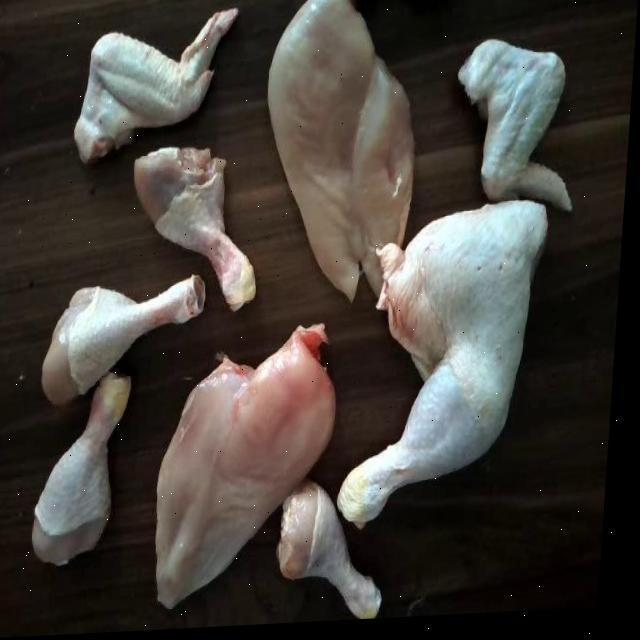breast: (154, 324, 352, 618), (248, 0, 426, 296)
leg: (129, 139, 274, 319), (31, 376, 146, 576), (38, 278, 216, 401), (276, 477, 399, 628)
quater: (330, 196, 557, 524)
wing: (452, 36, 592, 236), (68, 9, 245, 165)
